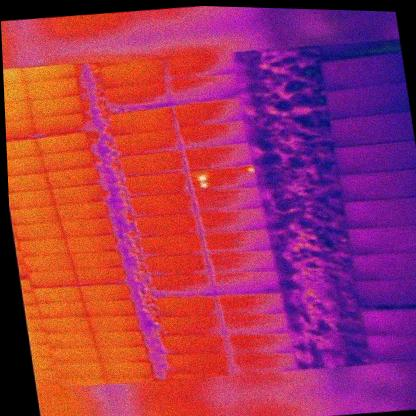Hotspot: (187, 159, 260, 194)
Normal: (174, 115, 251, 153), (161, 47, 239, 84), (111, 122, 184, 161), (194, 201, 271, 237), (210, 263, 285, 299), (107, 102, 177, 139), (199, 223, 274, 257), (119, 167, 193, 201), (136, 228, 206, 262), (217, 307, 291, 339), (155, 308, 223, 341), (146, 268, 215, 298), (53, 196, 113, 227), (26, 91, 85, 122), (45, 162, 102, 192), (64, 230, 120, 257), (31, 280, 85, 308), (75, 262, 130, 289), (87, 309, 142, 336), (49, 341, 102, 368)
Shadow: (317, 47, 407, 95), (325, 106, 415, 152), (321, 78, 410, 122), (335, 163, 416, 206), (343, 216, 416, 259), (353, 270, 416, 313), (357, 298, 416, 340)
